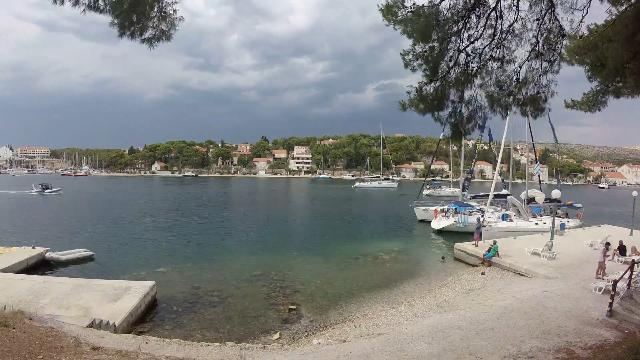Sailboat: (350, 176, 400, 192)
speedboat: (26, 178, 66, 195), (182, 170, 200, 180)
